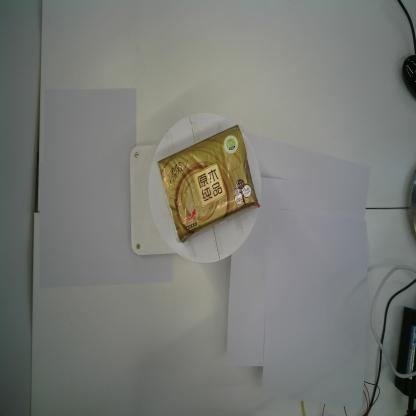Tissue: (157, 124, 260, 244)
